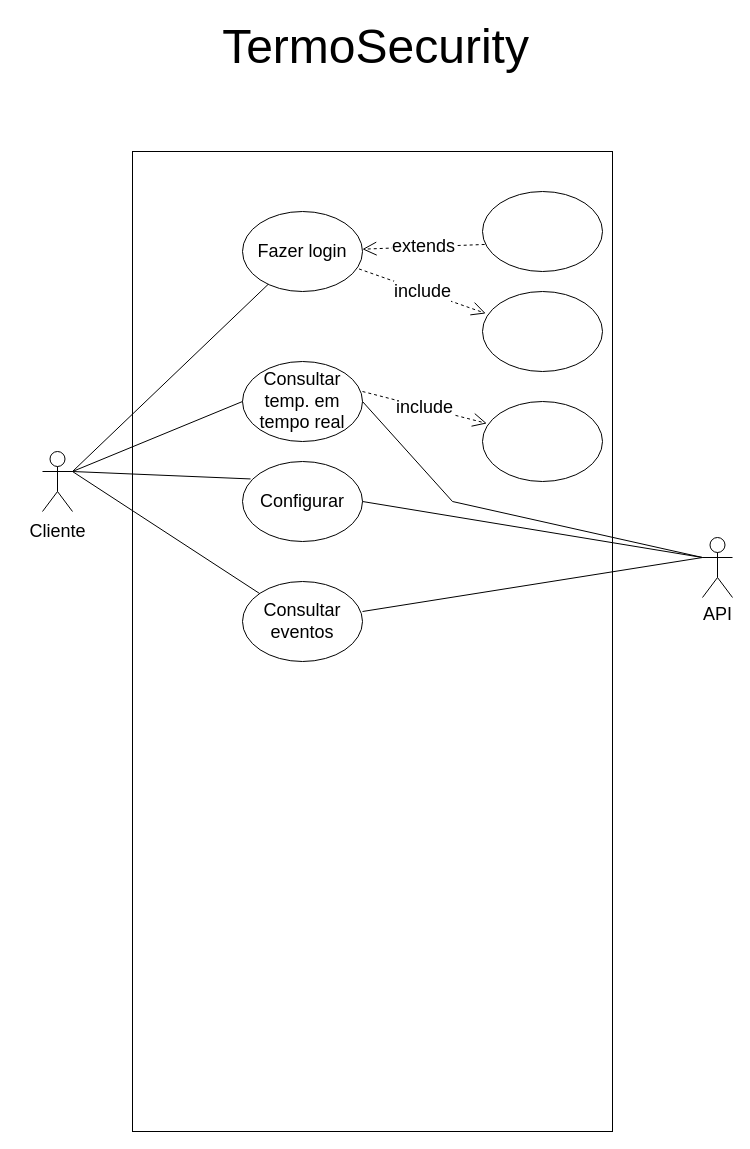
The diagram is 750 pixels wide and 1149 high, and some of its shapes have lost their labels. Here are the shapes that lost their labels. From the top down, the centre of each, then its label:
At point 542,231: "Exibir erro de login".
At point 542,331: "Verificar senha".
At point 542,441: "Verificar temperatura exterior".
